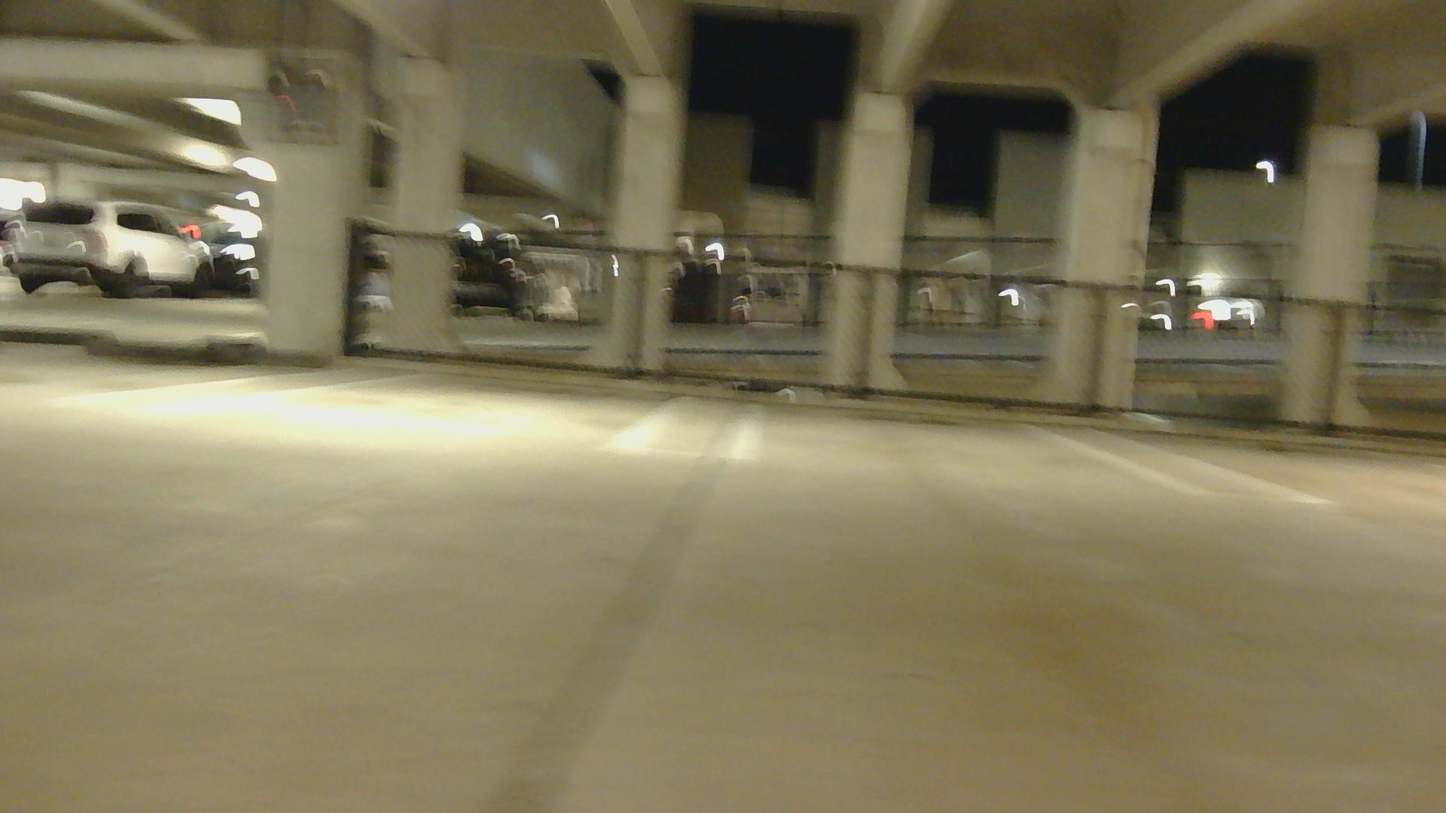empty_spot: (145, 255, 726, 468), (718, 299, 1255, 503), (1078, 326, 1446, 510), (0, 267, 372, 410)
